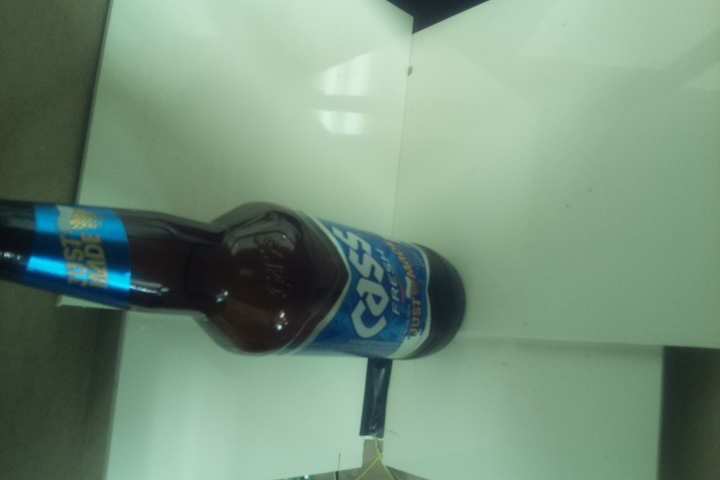makju: (1, 197, 467, 362)
